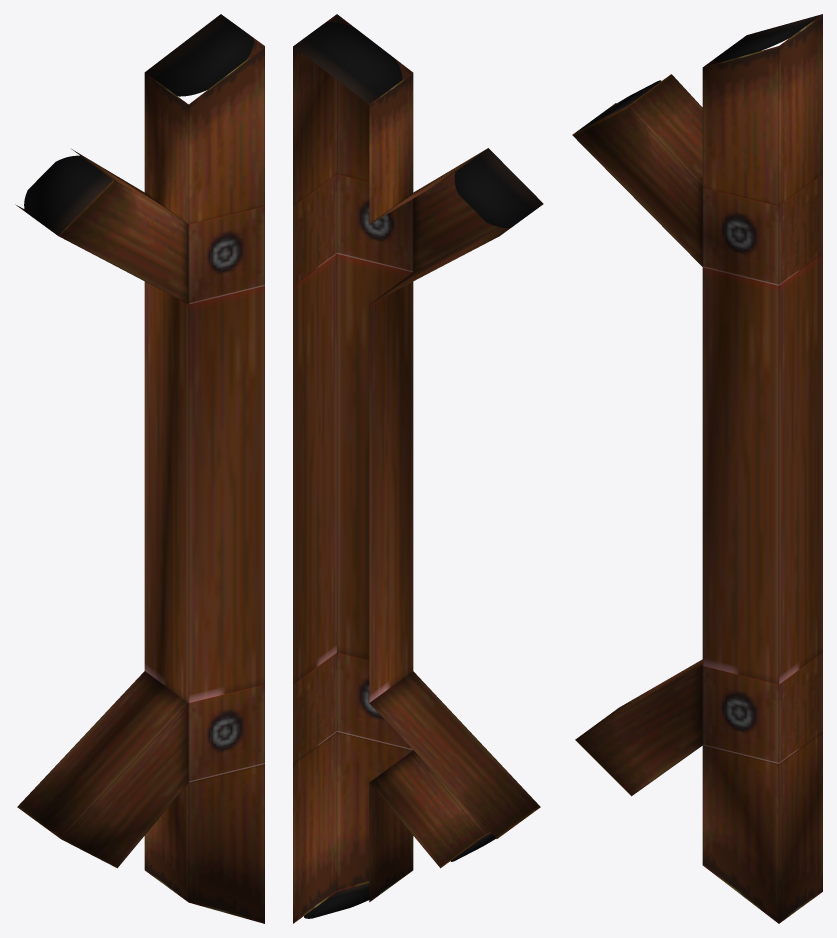
The picture shows the model from 3 angles, left to right: view 1: azimuth 30°, elevation 25°; view 2: azimuth 150°, elevation 25°; view 3: azimuth 330°, elevation 25°; orthographic projection.
Visible parts, largest first — view 1: T1L7M003_9; view 2: T1L7M003_9; view 3: T1L7M003_9.
Boxes of the visible parts, box(x1,y1,x2,y2) form: T1L7M003_9: box(15, 14, 264, 923); T1L7M003_9: box(293, 14, 543, 923); T1L7M003_9: box(572, 14, 822, 923).
Size of the model in its own units: 1.08 by 4.4 by 0.3994.
